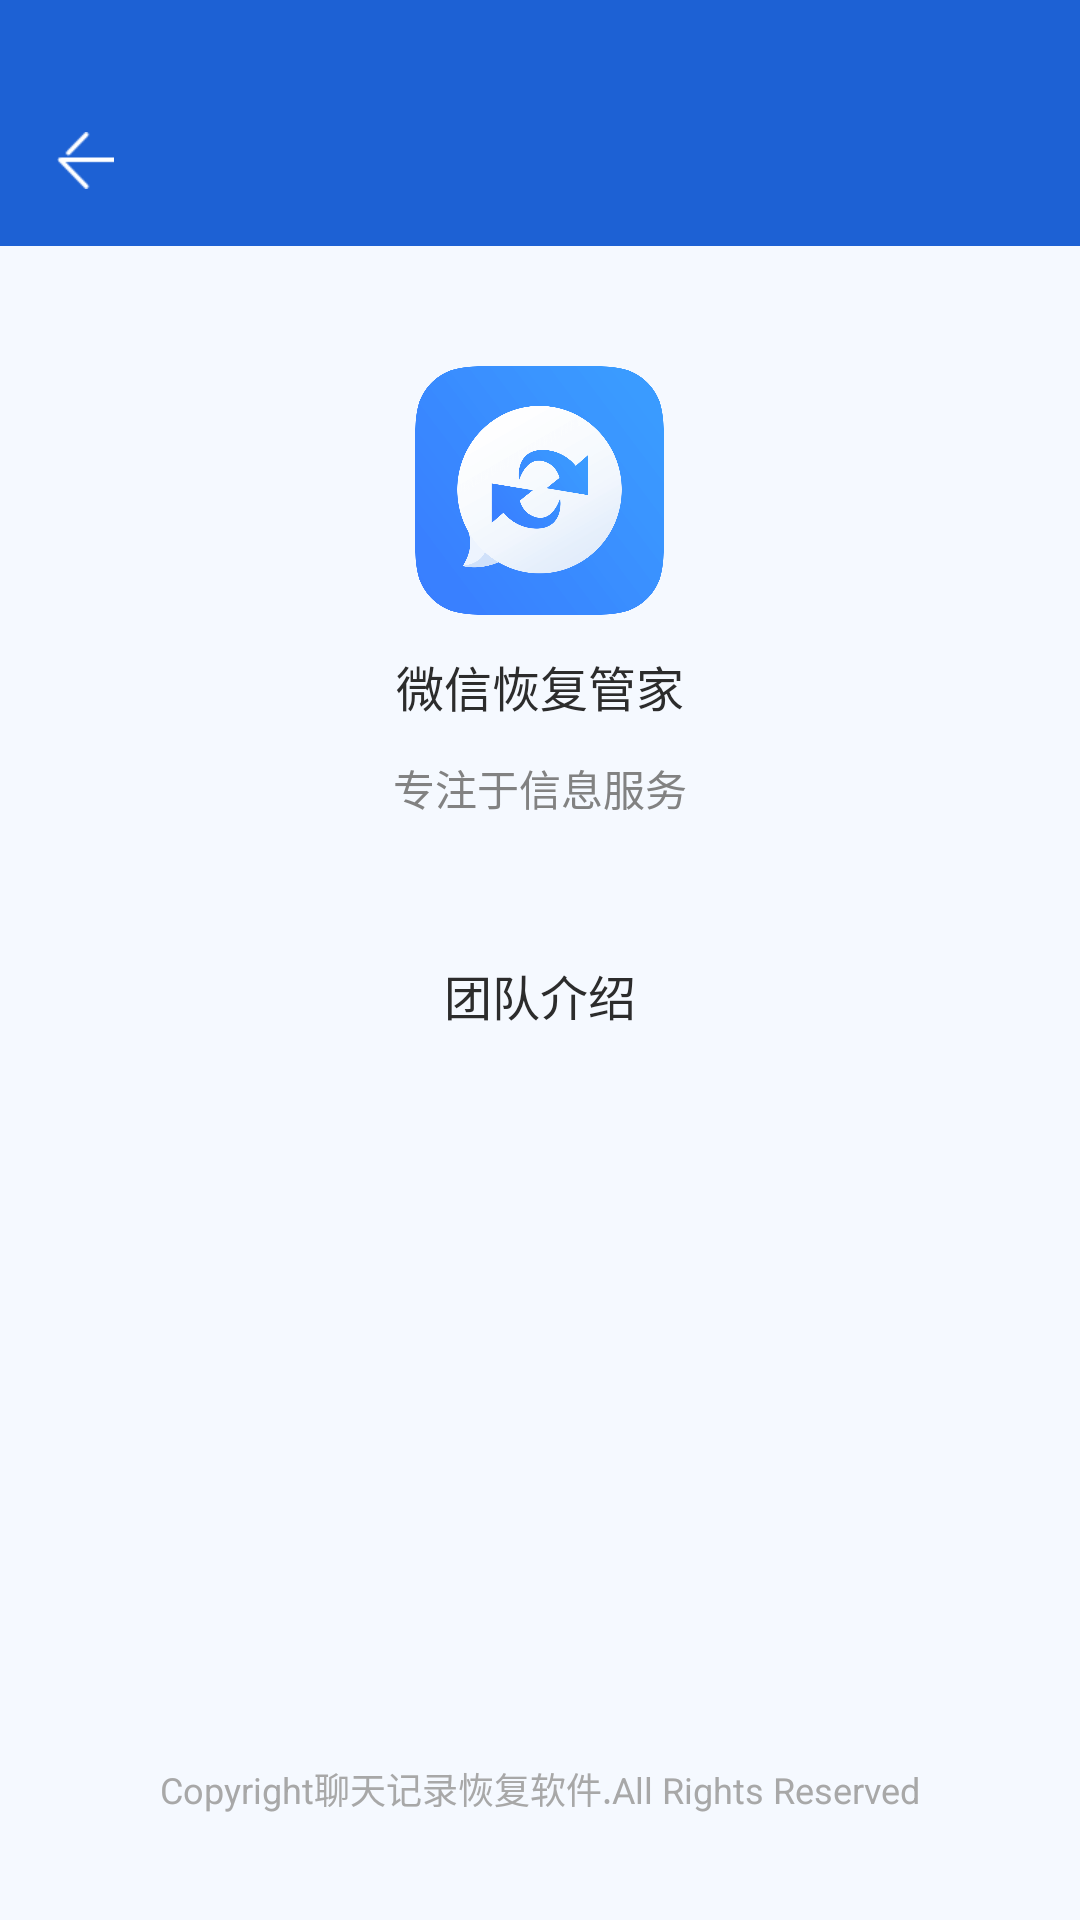

Named icons in this screenshot (1080×1920) and their bounding boxes, (x1, y1, x2, y2):
back: (57, 132, 114, 189)
